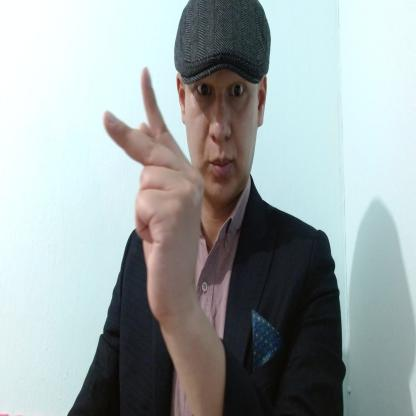P: (101, 62, 207, 328)
